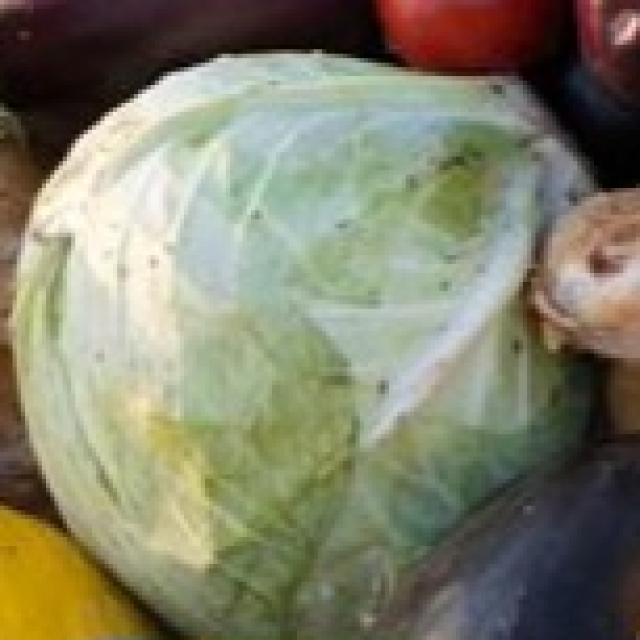food waste: (8, 0, 640, 632)
